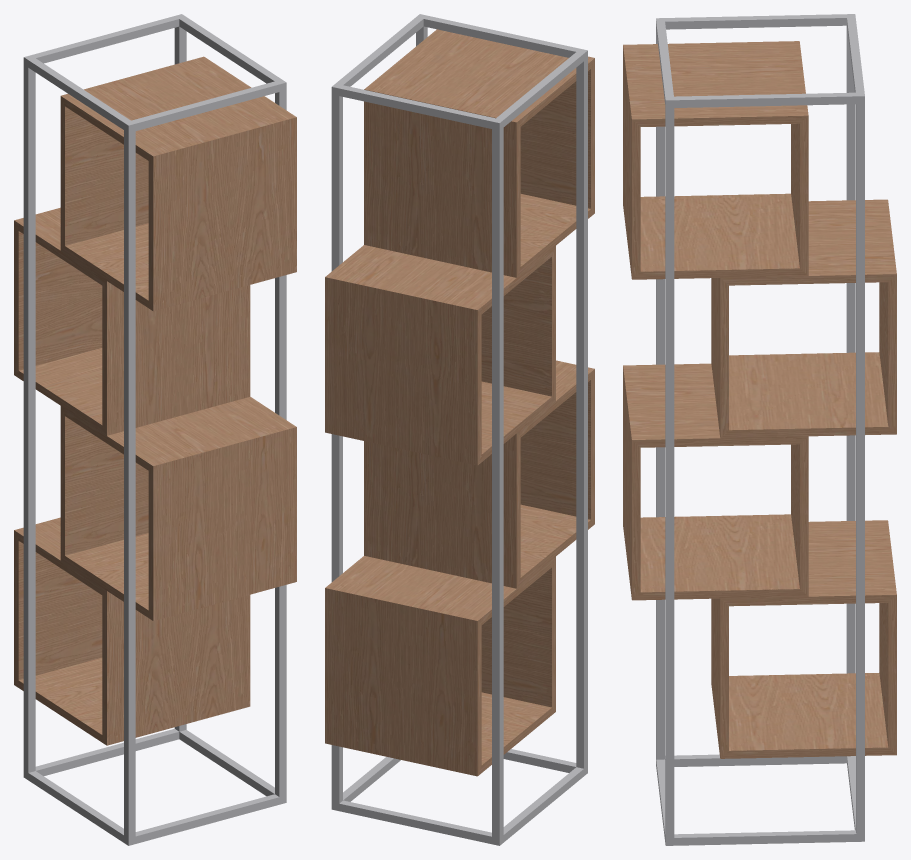
The model's file is bookstand-_0bAgLWL.glb.
3 renders of one model, left to right at view 1: azimuth 30°, elevation 25°; view 2: azimuth 150°, elevation 25°; view 3: azimuth 270°, elevation 25°, orthographic. The views are drawn at different scales.
Parts seen in each view (by area): view 1: StudyShelf_2053; view 2: StudyShelf_2053; view 3: StudyShelf_2053.
Boxes of the visible parts, bbox=[...] form: StudyShelf_2053: bbox=[14, 14, 296, 845]; StudyShelf_2053: bbox=[325, 14, 594, 845]; StudyShelf_2053: bbox=[623, 14, 896, 845].
Size of the model in its own units: 63.83 by 257 by 85.45.
Materials: 2 (2 with a texture image).
